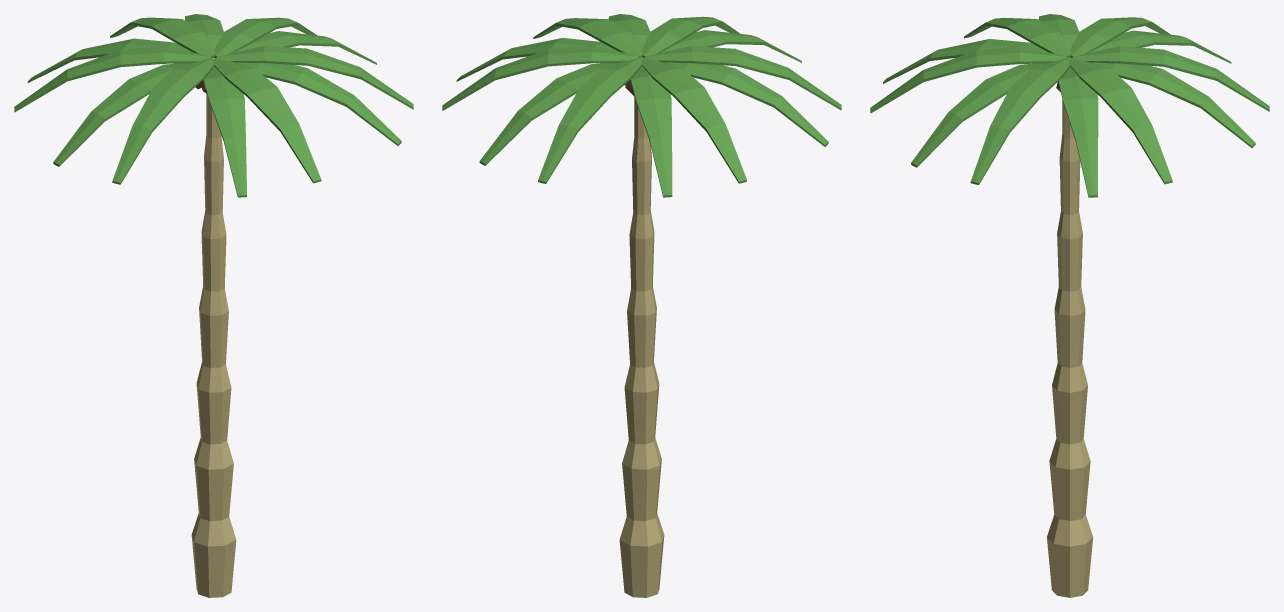
File: Palm Tree005.fbx
3 views of the same model, side by side, from view 1: azimuth 30°, elevation 25°; view 2: azimuth 150°, elevation 25°; view 3: azimuth 270°, elevation 25° (orthographic).
Visible parts, largest first — view 1: Cube.000; view 2: Cube.000; view 3: Cube.000.
Part boxes in pixels (x1,y1,x2,y2): Cube.000: [14, 14, 413, 597]; Cube.000: [442, 14, 841, 597]; Cube.000: [870, 14, 1269, 597].
Bounding box in the file's own units: 1038 × 1551 × 1043.
